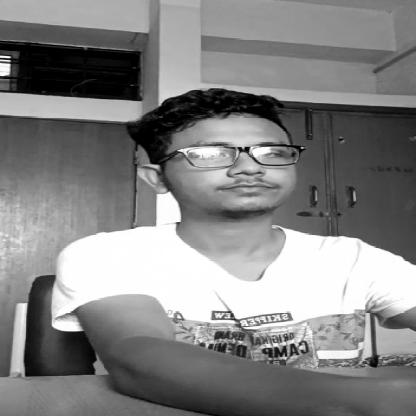Normal: (154, 116, 310, 215)
